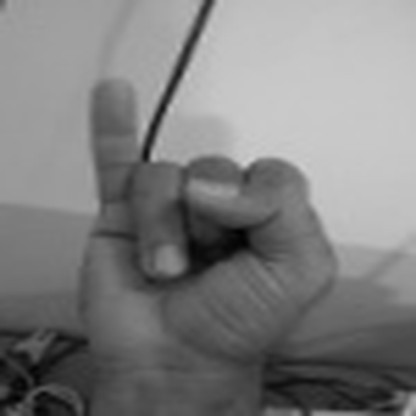i: (72, 65, 340, 373)
